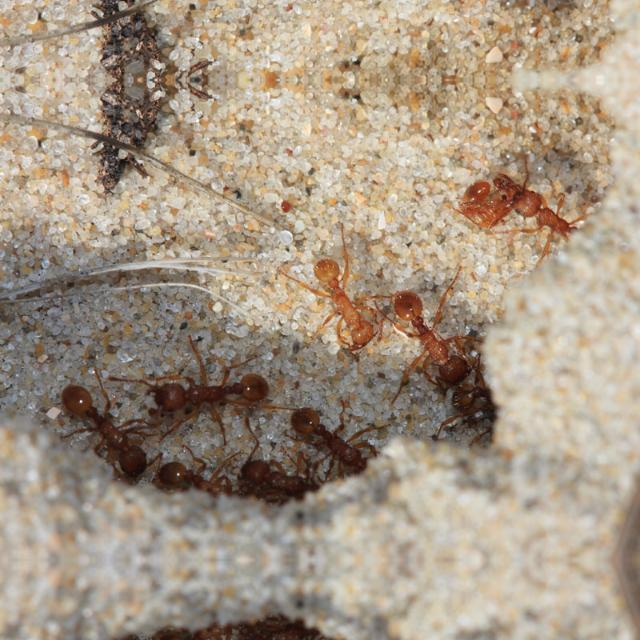Myrmica: (141, 352, 283, 436), (306, 244, 392, 370), (276, 394, 392, 474), (390, 282, 478, 380), (74, 384, 170, 468), (232, 447, 328, 509), (446, 356, 518, 438), (509, 182, 593, 252), (169, 453, 249, 509), (466, 165, 518, 231), (232, 610, 326, 640), (169, 610, 249, 640)
